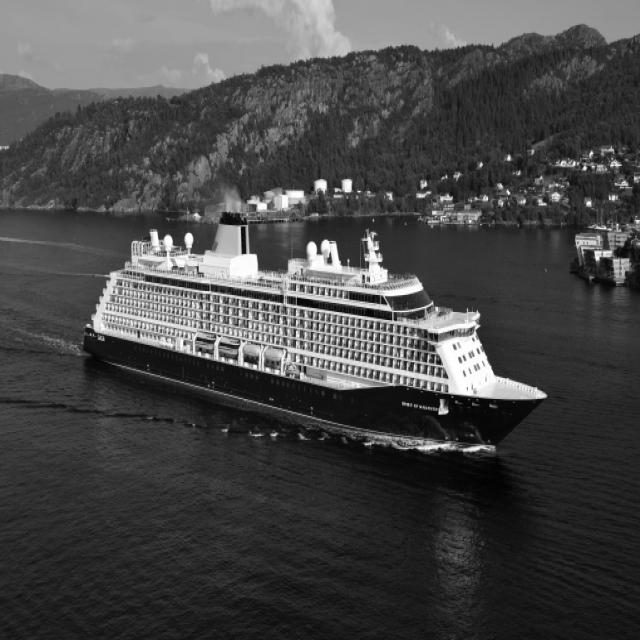cruises: (80, 205, 551, 466)
